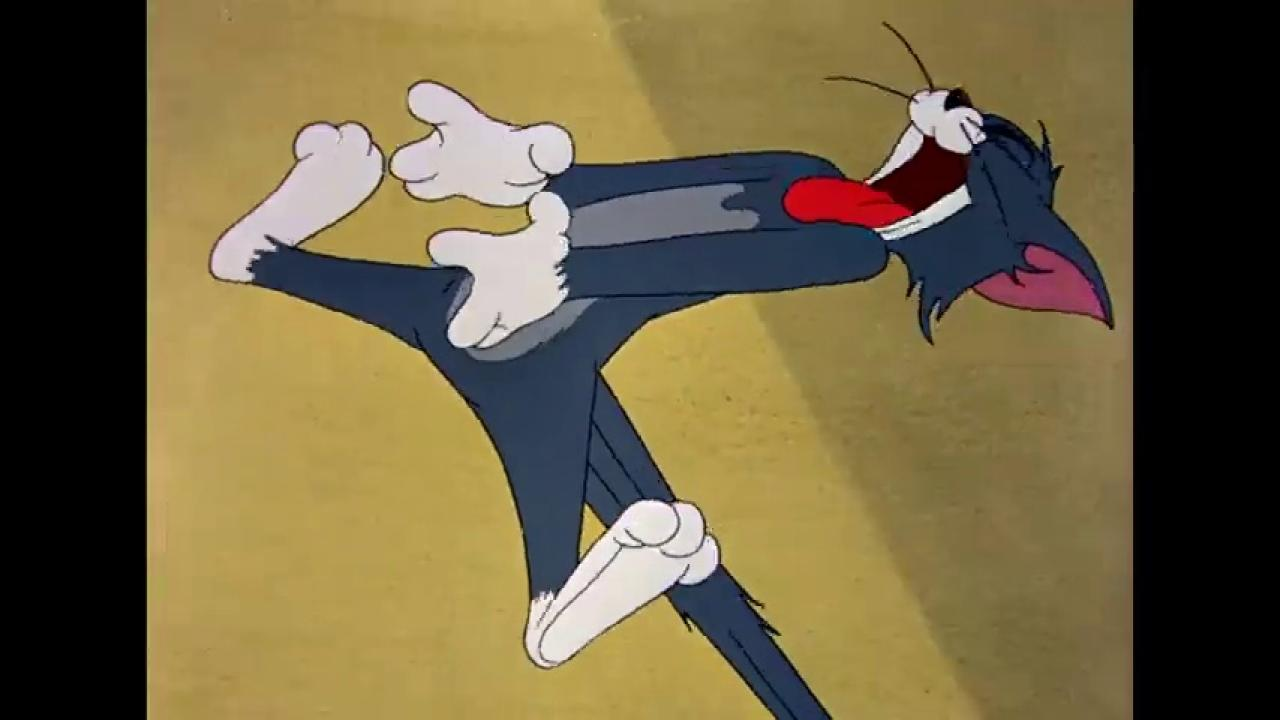Tom: (207, 76, 1116, 720)
